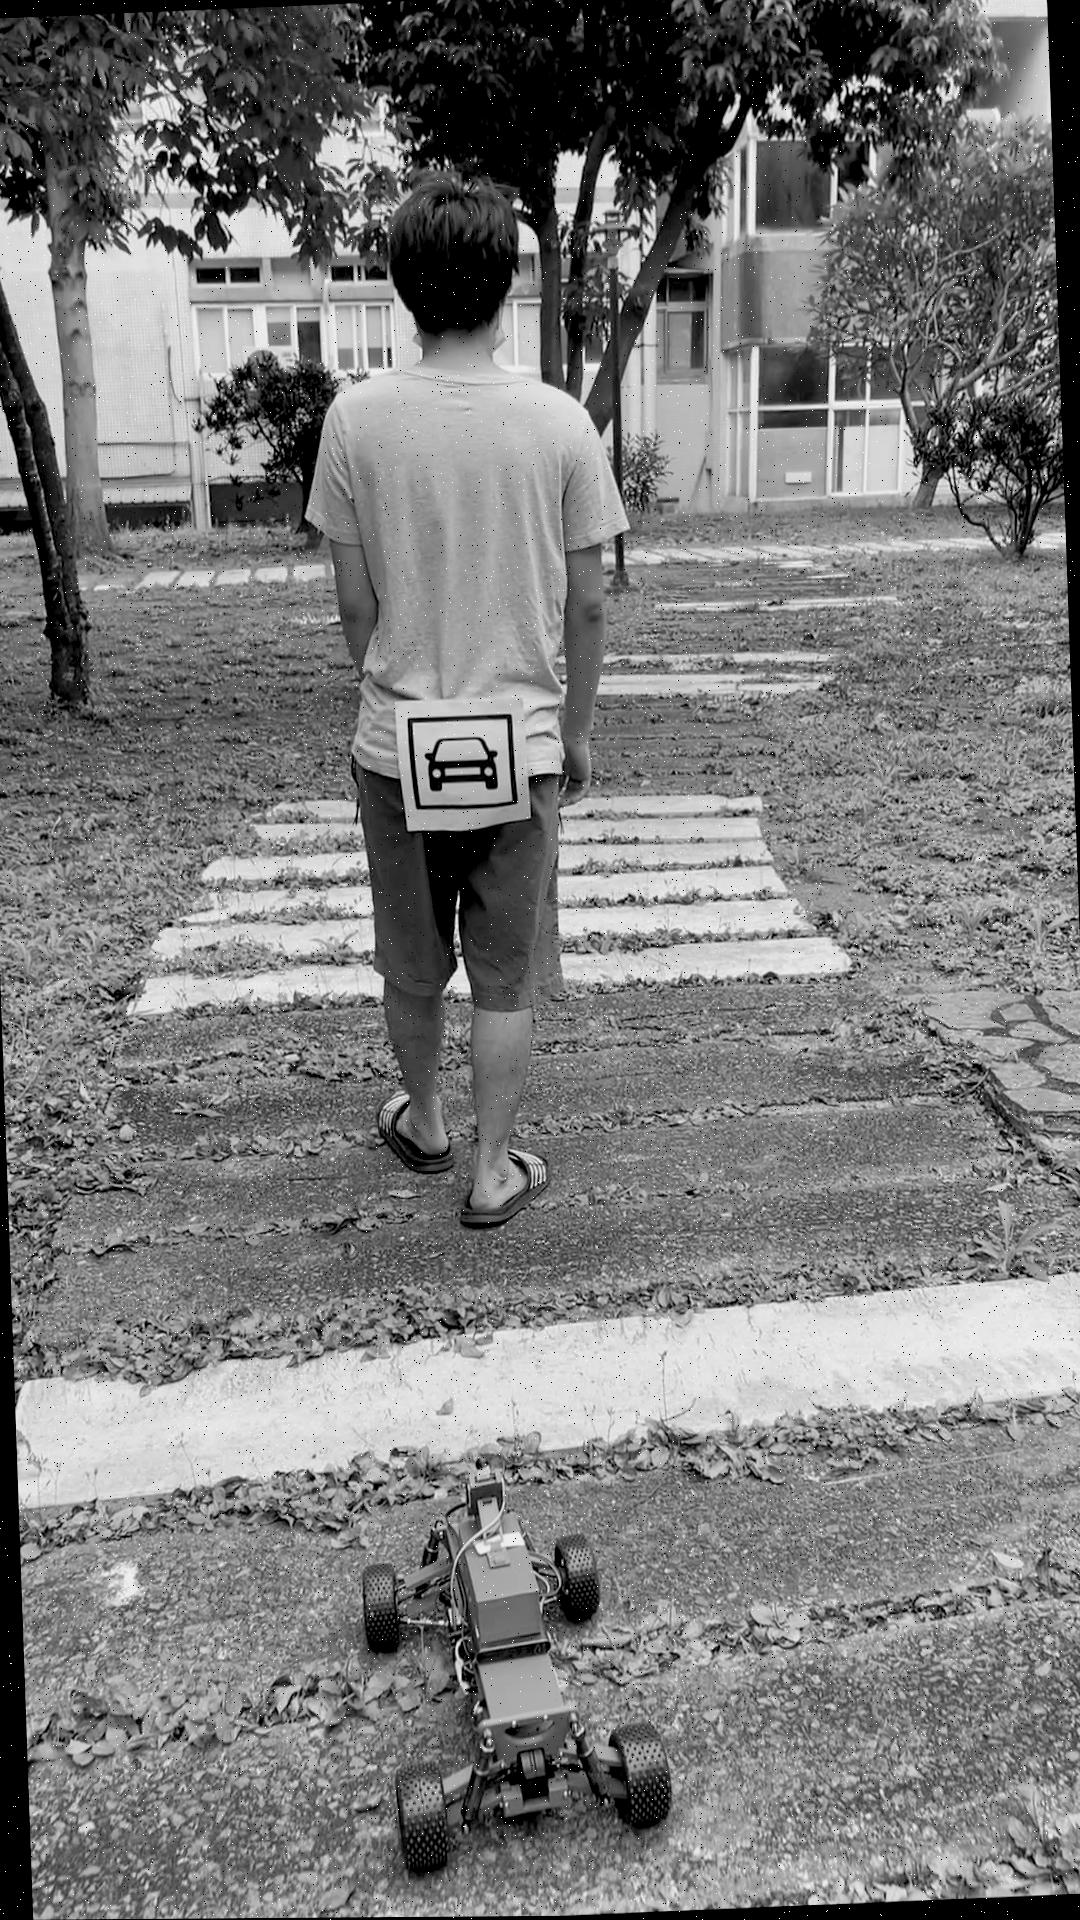car_img: (407, 713, 518, 812)
